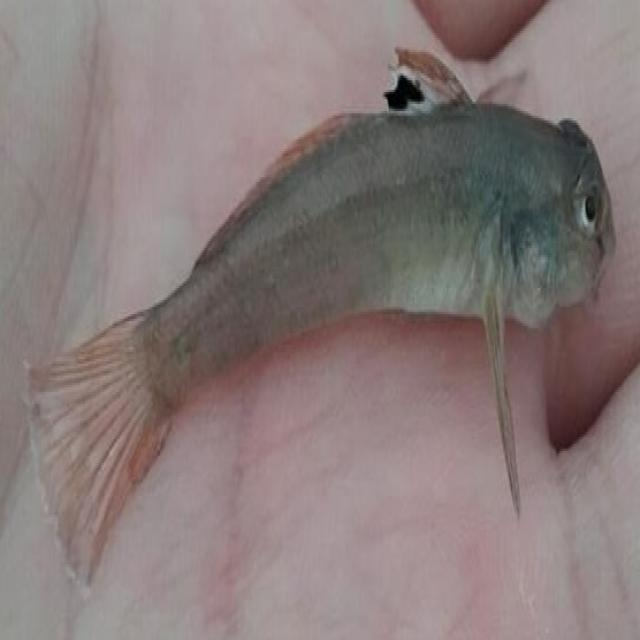Goby: (12, 19, 630, 546)
